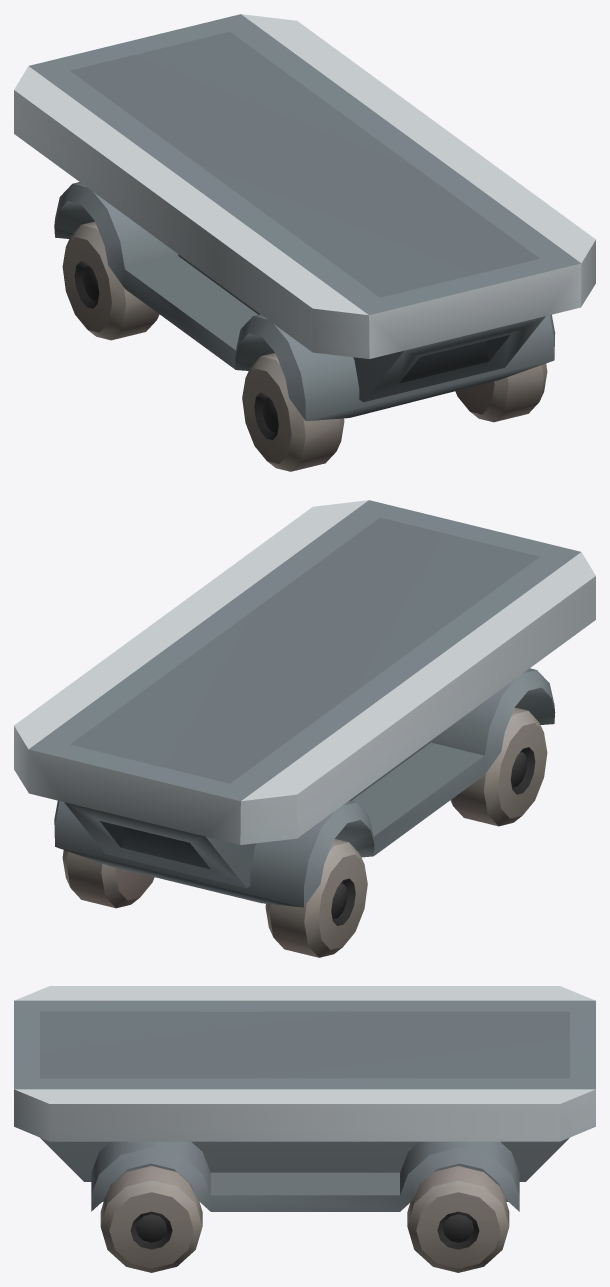
The model's file is spacetruck_trailer.glb.
3 views of the same model, one above another, from view 1: azimuth 30°, elevation 25°; view 2: azimuth 150°, elevation 25°; view 3: azimuth 270°, elevation 25° (orthographic). The views are drawn at different scales.
Visible parts, largest first — view 1: Cube.15126, spacetruck_trailer_wheel_front_right, spacetruck_trailer_wheel_rear_right, spacetruck_trailer_wheel_front_left; view 2: Cube.15126, spacetruck_trailer_wheel_rear_right, spacetruck_trailer_wheel_front_right, spacetruck_trailer_wheel_rear_left; view 3: Cube.15126, spacetruck_trailer_wheel_front_left, spacetruck_trailer_wheel_rear_left.
Boxes of the visible parts, bbox=[...] form: Cube.15126: bbox=[14, 14, 595, 420]; spacetruck_trailer_wheel_front_right: bbox=[242, 353, 344, 471]; spacetruck_trailer_wheel_rear_right: bbox=[62, 221, 159, 340]; spacetruck_trailer_wheel_front_left: bbox=[455, 363, 547, 422]; Cube.15126: bbox=[14, 500, 595, 907]; spacetruck_trailer_wheel_rear_right: bbox=[265, 839, 367, 957]; spacetruck_trailer_wheel_front_right: bbox=[450, 707, 547, 826]; spacetruck_trailer_wheel_rear_left: bbox=[62, 850, 154, 908]; Cube.15126: bbox=[14, 986, 595, 1211]; spacetruck_trailer_wheel_front_left: bbox=[100, 1166, 202, 1272]; spacetruck_trailer_wheel_rear_left: bbox=[407, 1166, 509, 1272].
Bounding box in the file's own units: 0.48 × 0.3382 × 1.
Materials: 1 (1 with a texture image).
